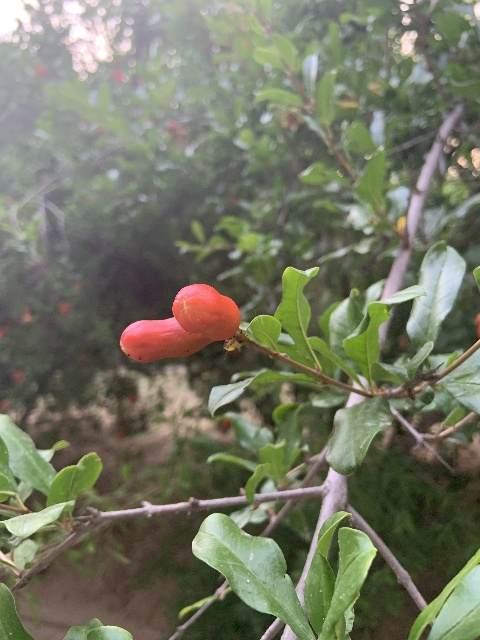bud: (120, 316, 216, 362), (172, 283, 240, 340)
